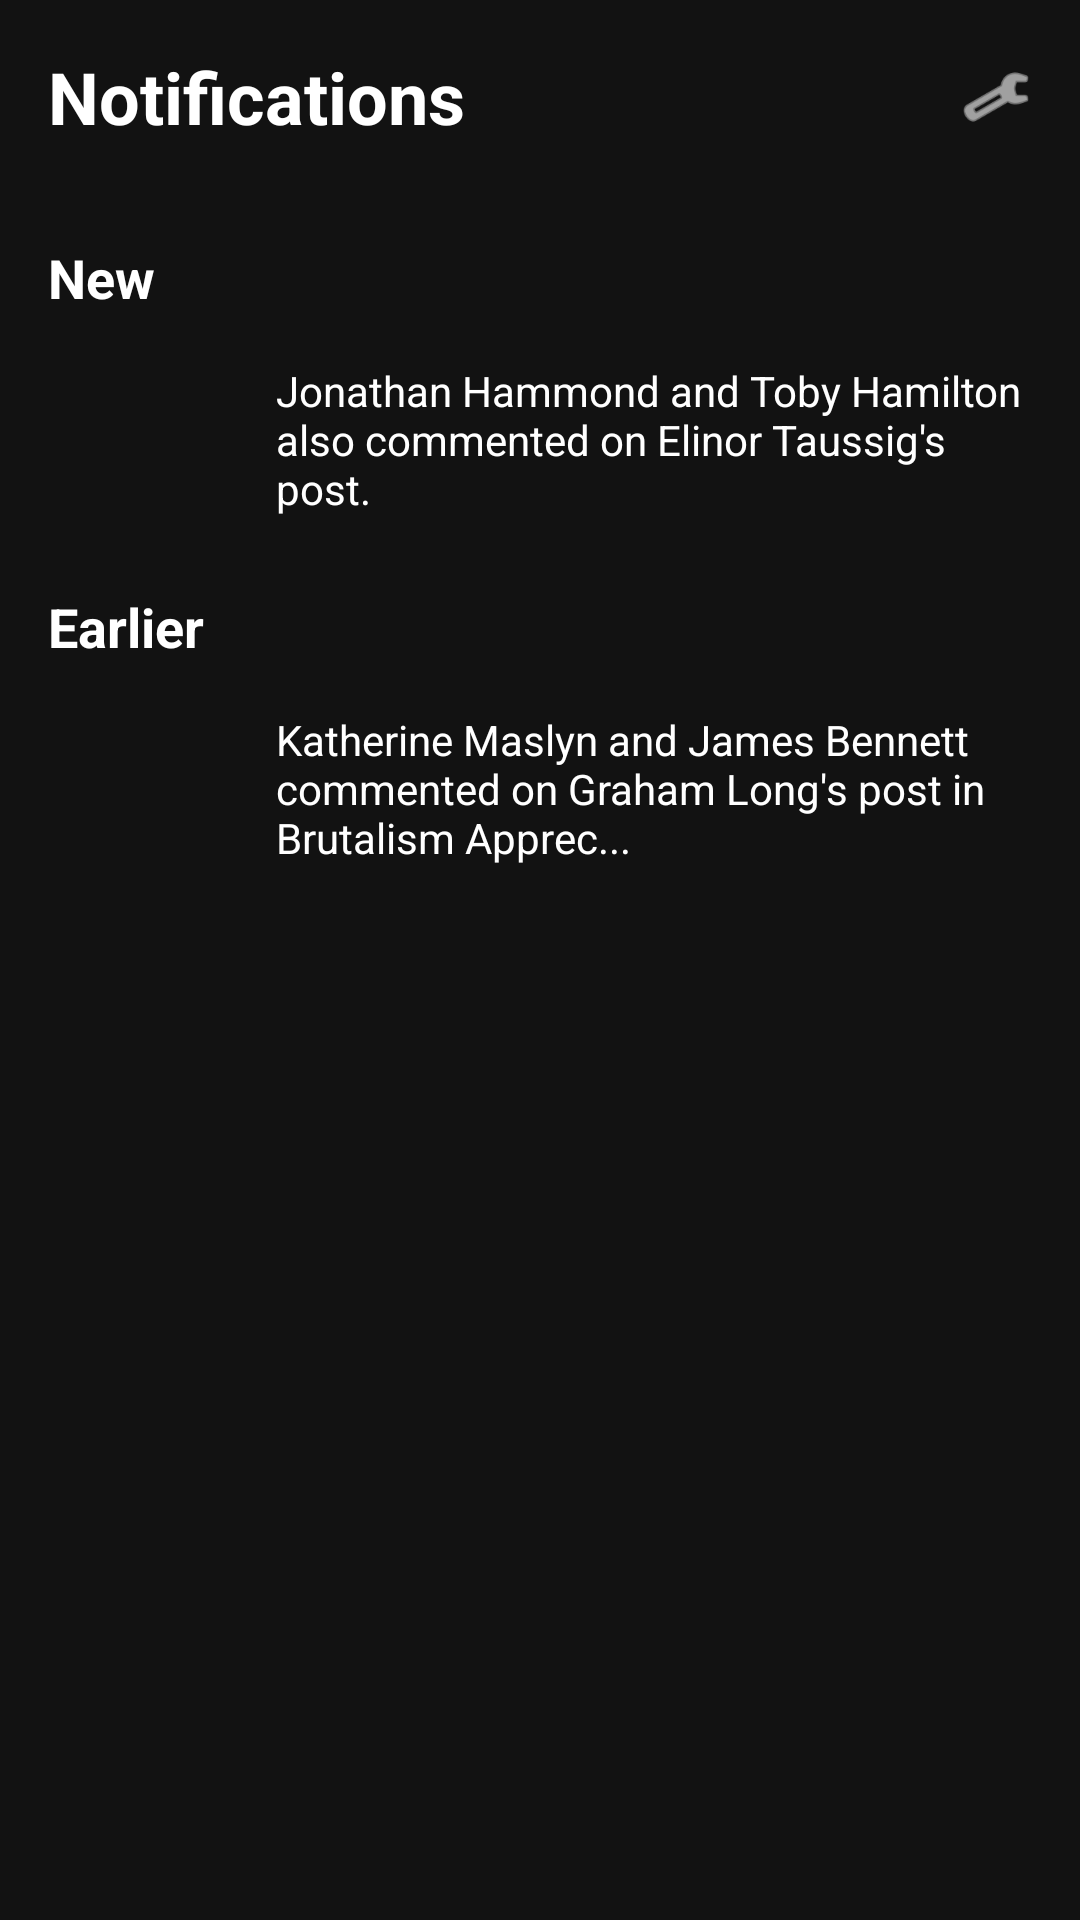

Named icons in this screenshot (1080x1920) and their bounding boxes, (left=x1, top=y1, right=x2, bottom=y2):
manage: (left=963, top=72, right=1028, bottom=122)
